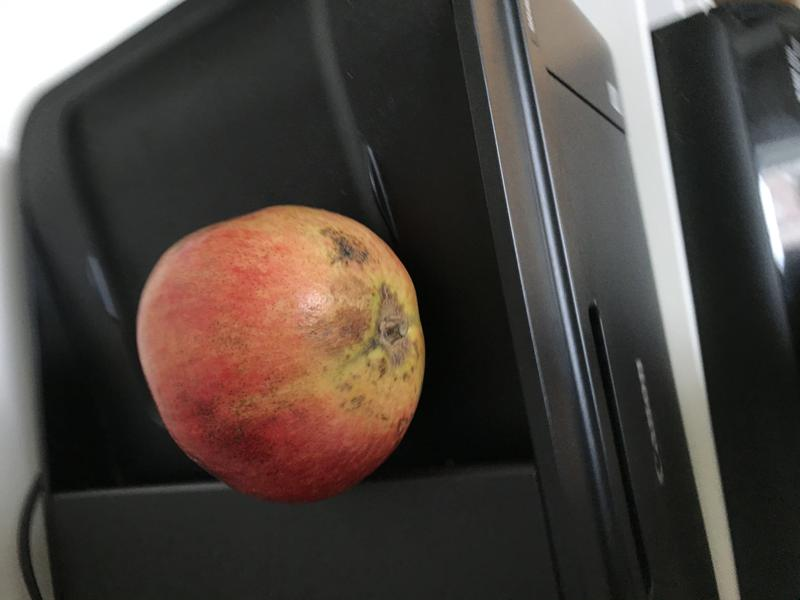pomegranate: (116, 190, 437, 519)
